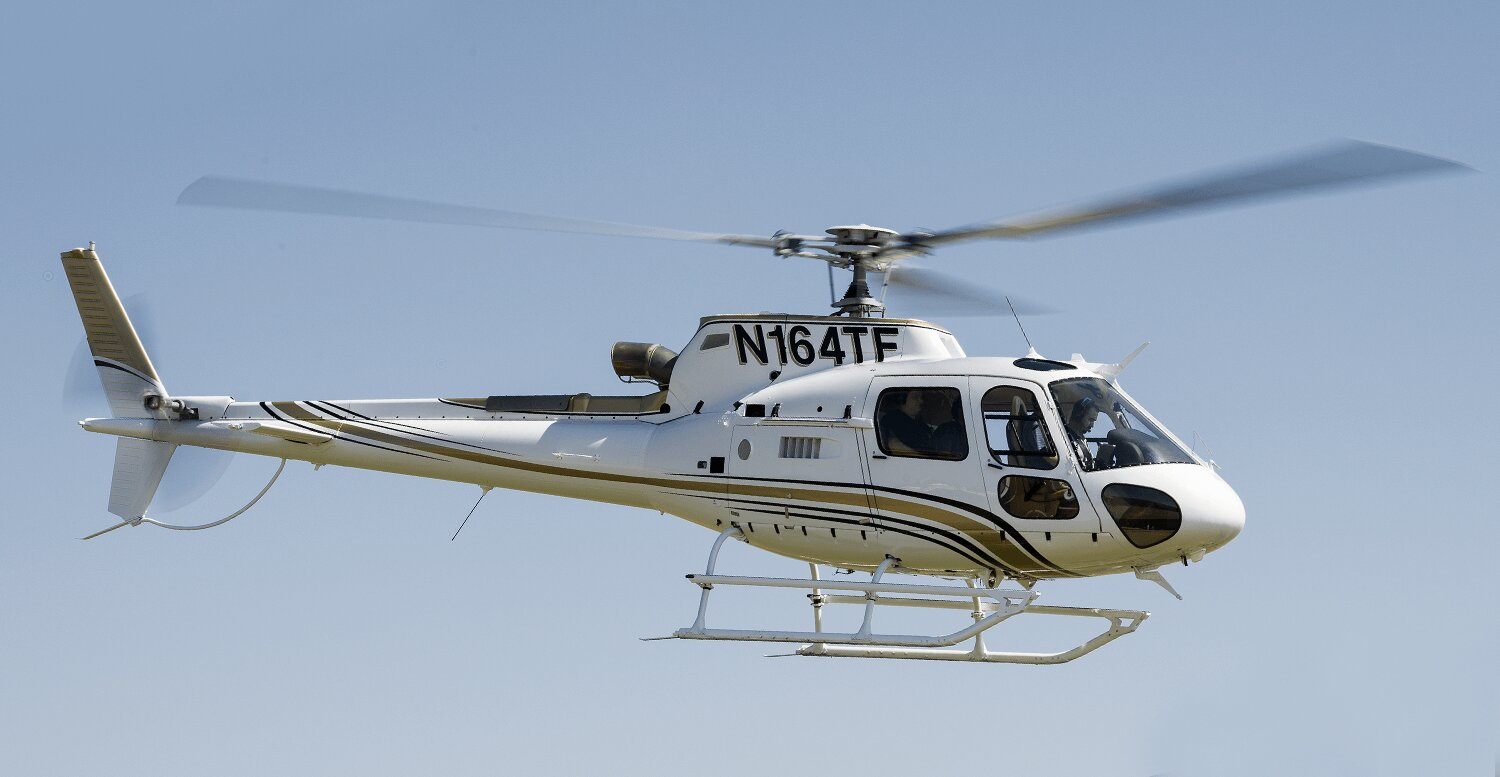Helicopter: (20, 185, 1274, 664)
